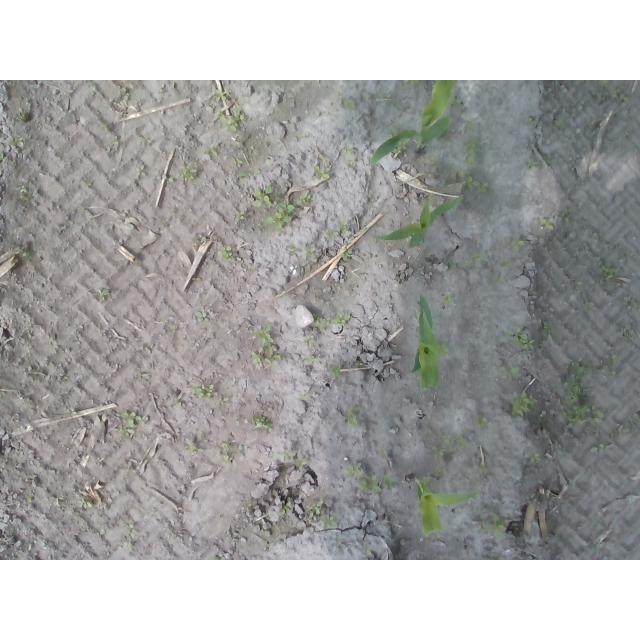Maize: (369, 83, 456, 166), (370, 193, 464, 251), (415, 479, 478, 538), (410, 291, 443, 390)
Weeds: (557, 367, 608, 425), (248, 323, 284, 367), (261, 203, 300, 230), (346, 463, 378, 494), (431, 431, 465, 457), (459, 171, 490, 194), (504, 329, 536, 351), (509, 391, 533, 420), (314, 312, 353, 327), (463, 136, 482, 164), (251, 185, 273, 208), (483, 513, 505, 536), (220, 107, 241, 129), (221, 439, 238, 465), (119, 413, 138, 436), (599, 80, 623, 98), (343, 405, 362, 427), (192, 384, 214, 399), (178, 166, 195, 183), (383, 472, 401, 488), (496, 366, 521, 377), (511, 240, 527, 256), (319, 515, 337, 529), (96, 287, 112, 302), (219, 244, 234, 260), (598, 265, 614, 279), (590, 442, 606, 456), (256, 416, 273, 429), (11, 134, 26, 148), (541, 217, 555, 232), (543, 319, 554, 338), (477, 415, 491, 429), (298, 194, 315, 205), (465, 254, 482, 265), (315, 166, 329, 178), (442, 291, 454, 305), (303, 355, 318, 366), (234, 210, 246, 223), (81, 497, 93, 509), (526, 158, 538, 170), (311, 506, 322, 519), (306, 245, 317, 257), (531, 454, 543, 465), (195, 311, 208, 321), (480, 463, 490, 476), (215, 90, 225, 102), (330, 366, 342, 376), (282, 501, 291, 513), (343, 99, 353, 109), (16, 185, 28, 193), (501, 260, 512, 268), (340, 224, 348, 233), (344, 147, 352, 156), (137, 168, 146, 176), (341, 251, 351, 258)
